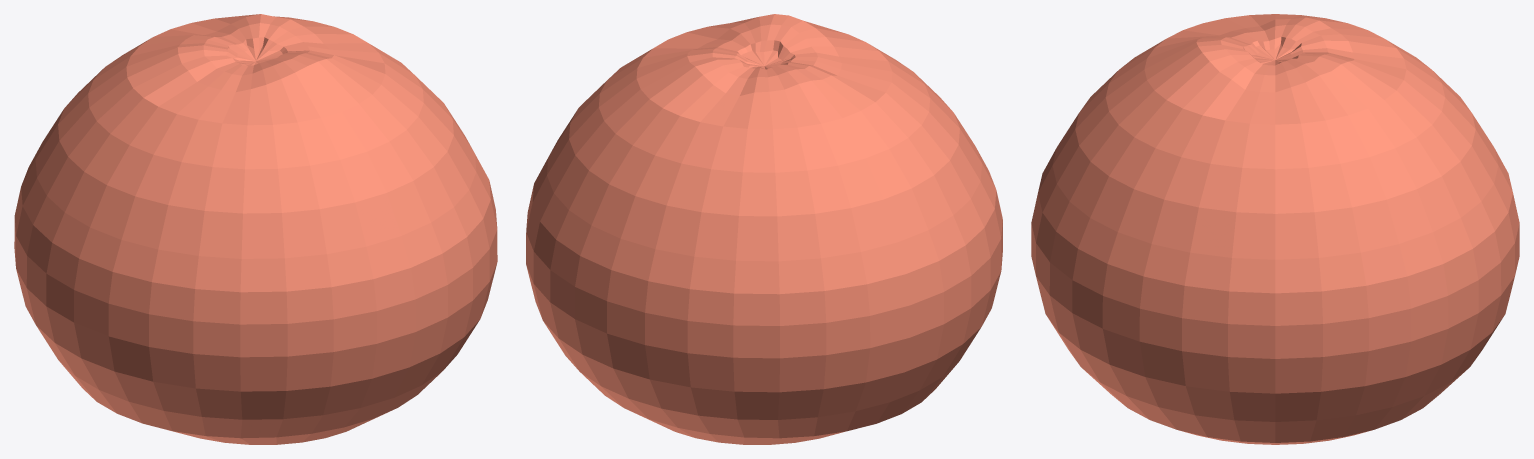
File: pessago.fbx
The picture shows the model from 3 angles, left to right: view 1: azimuth 30°, elevation 25°; view 2: azimuth 150°, elevation 25°; view 3: azimuth 270°, elevation 25°; orthographic projection. The views are drawn at different scales.
Visible parts, largest first — view 1: Sphere; view 2: Sphere; view 3: Sphere.
Part boxes in pixels (x1,y1,x2,y2): Sphere: (14, 14, 497, 444); Sphere: (526, 14, 1002, 444); Sphere: (1031, 14, 1519, 444).
Bounding box in the file's own units: 236 × 204 × 236.
